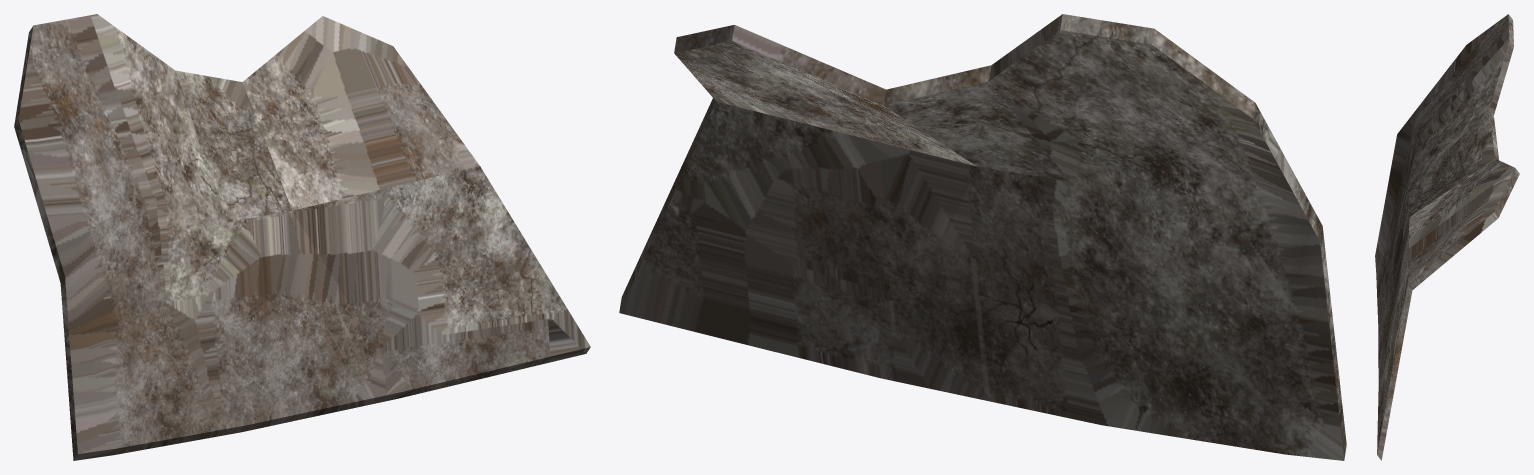
File: RuinaEdificio5.obj
3 renders of one model, left to right at view 1: azimuth 30°, elevation 25°; view 2: azimuth 150°, elevation 25°; view 3: azimuth 270°, elevation 25°, orthographic. The views are drawn at different scales.
Parts seen in each view (by area): view 1: Object023; view 2: Object023; view 3: Object023.
Part boxes in pixels (x1,y1,x2,y2): Object023: (14, 14, 590, 460); Object023: (619, 14, 1346, 460); Object023: (1375, 14, 1519, 460).
Size of the model in its own units: 89.11 by 62.62 by 29.45.
